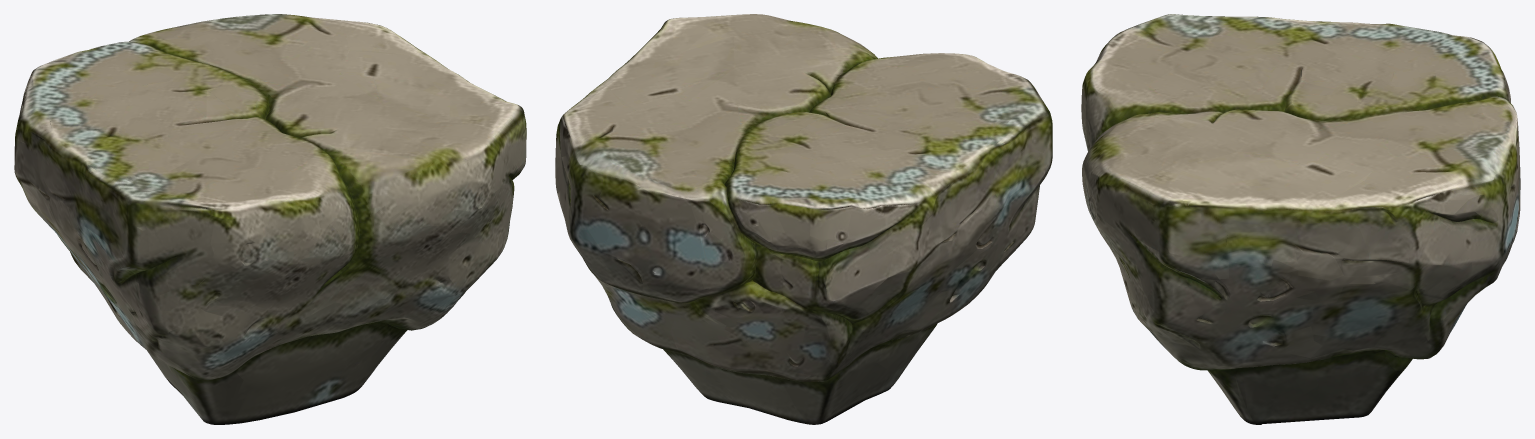
Rendered from RockStep.fbx.
3 renders of one model, left to right at view 1: azimuth 30°, elevation 25°; view 2: azimuth 150°, elevation 25°; view 3: azimuth 270°, elevation 25°, orthographic. The views are drawn at different scales.
Visible parts, largest first — view 1: RockStep; view 2: RockStep; view 3: RockStep.
Part boxes in pixels (<box>): RockStep: <box>14,14,526,424</box>; RockStep: <box>555,14,1052,424</box>; RockStep: <box>1081,14,1520,424</box>.
Size of the model in its own units: 2 by 1.37 by 1.93.
1 material, 1 textured.
